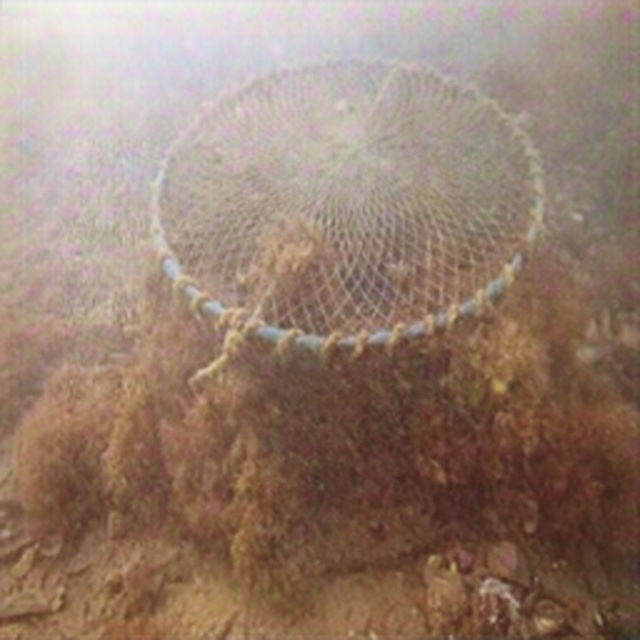mine: (148, 53, 548, 461)
